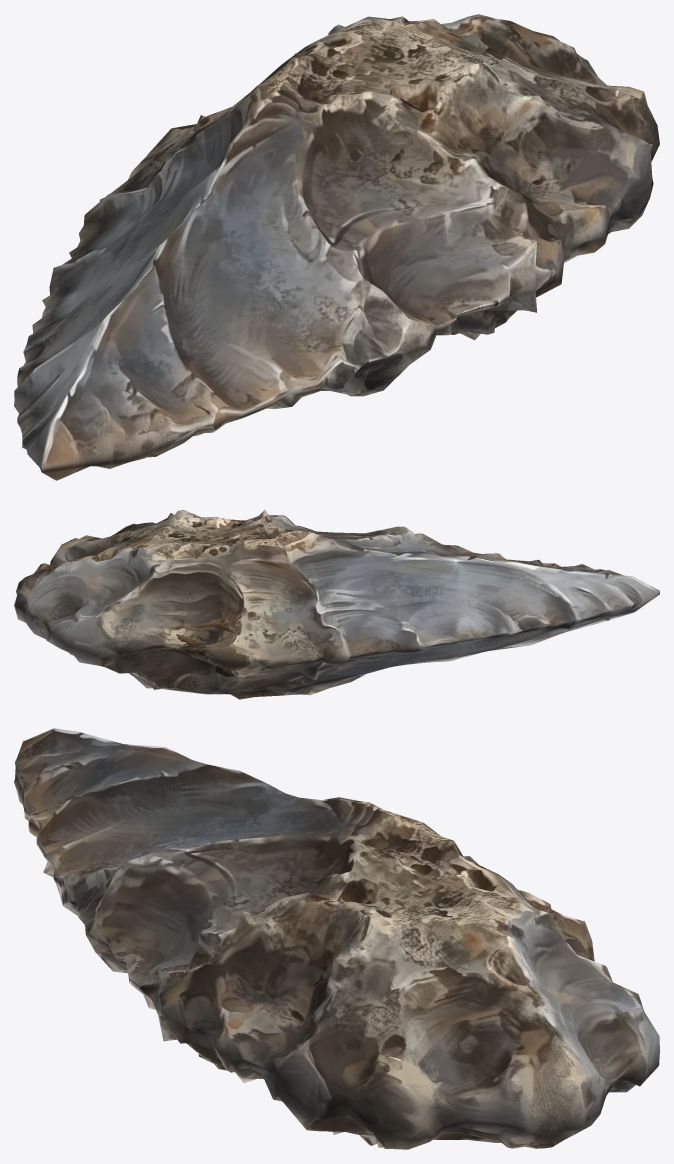
File: sharp_stone.glb
The picture shows the model from 3 angles, top to bottom: view 1: azimuth 30°, elevation 25°; view 2: azimuth 150°, elevation 25°; view 3: azimuth 270°, elevation 25°; orthographic projection. The views are drawn at different scales.
Bounding box in the file's own units: 0.1 × 0.0324 × 0.0722.
1 material, 1 textured.
